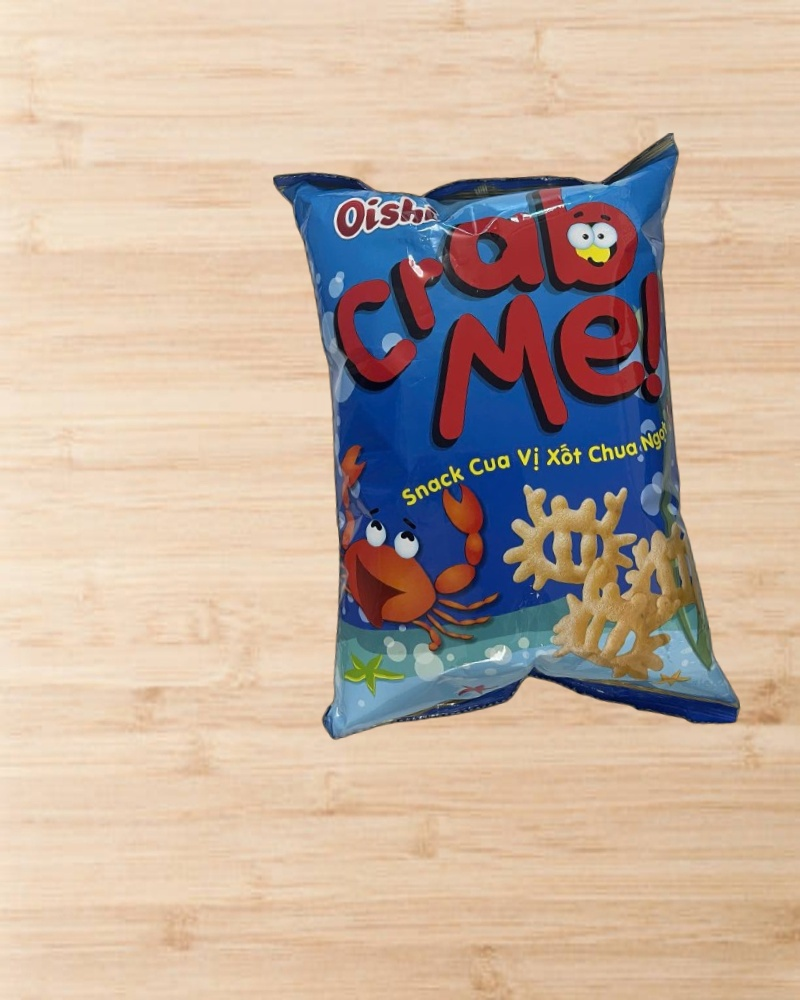Snack chay: (273, 132, 742, 760)
